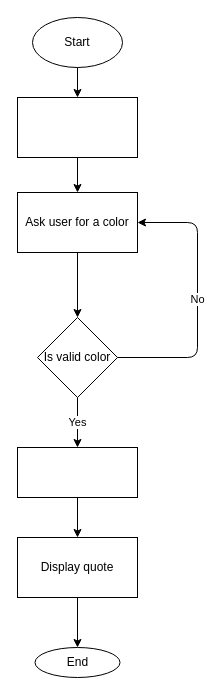
Image size: 223x695. Some labels were removed from this diagram. The box of each missing label's shape, as (x1, y1, x2, y2) in pixels:
Look up quote: (16, 446, 138, 498)
Setup - Load color/quote file: (16, 96, 138, 158)
